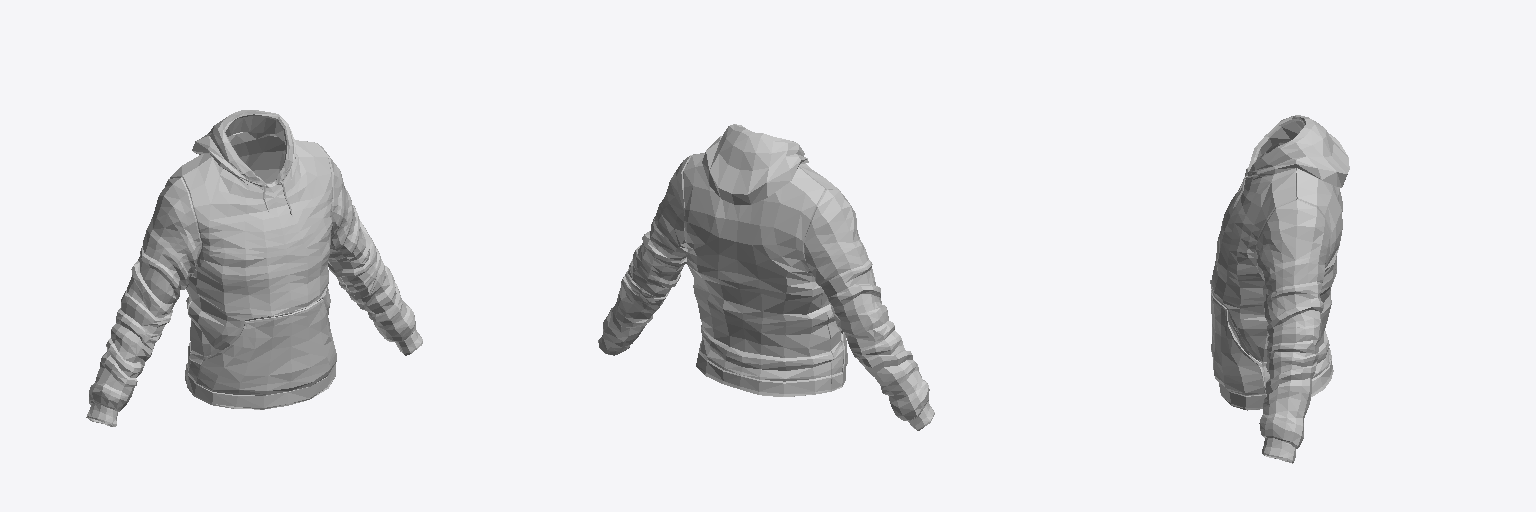
Rendered from blue-hoodie.obj.
3 renders of one model, left to right at view 1: azimuth 30°, elevation 25°; view 2: azimuth 150°, elevation 25°; view 3: azimuth 270°, elevation 25°, orthographic.
Bounding box in the file's own units: 25.82 × 19.83 × 9.36.